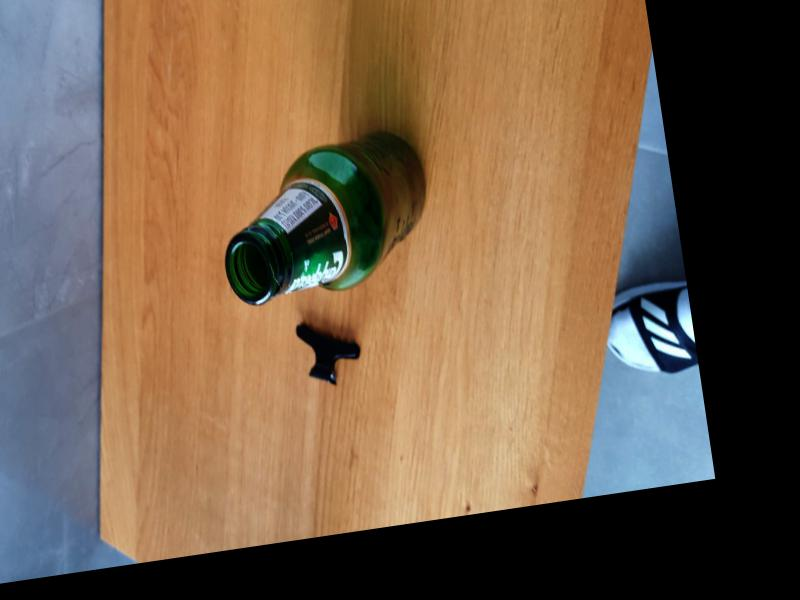Beer: (209, 125, 441, 309)
